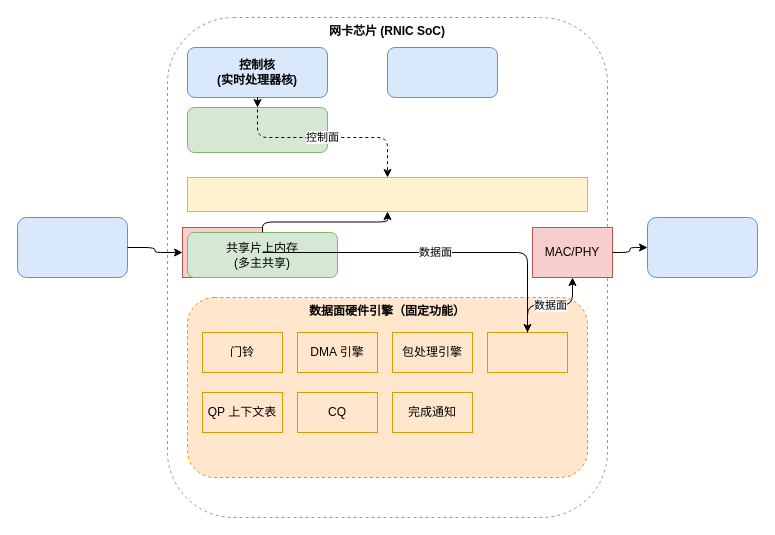
Some shapes in this 775 by 535 pixel diagram are drawn without their labels. The shapes that lost their labels are listed below. From the top down, each one's box as (x1, y1, x2, y2) in pixels, then its label:
(386, 46, 498, 98): 辅助核
(186, 106, 328, 152): 紧耦合内存 (核私有)
(186, 176, 588, 212): 内部互连总线（片上总线 / 交叉开关）
(16, 216, 128, 278): 主机 (CPU + 内存)
(646, 216, 758, 278): 网络 (RoCEv2)
(486, 332, 568, 372): 传输引擎
